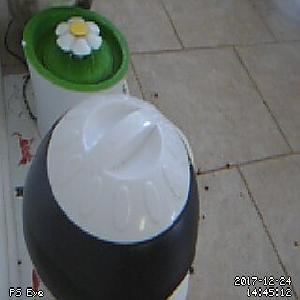cat: (6, 1, 95, 33)
fountain: (22, 6, 130, 92)
